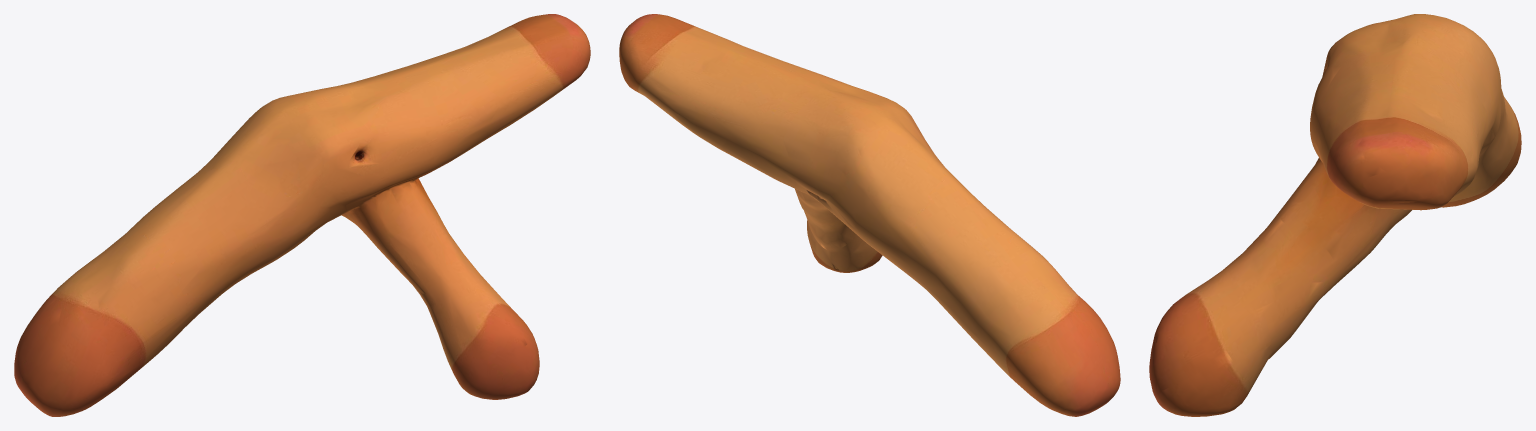
File: boomerang.glb
3 renders of one model, left to right at view 1: azimuth 30°, elevation 25°; view 2: azimuth 150°, elevation 25°; view 3: azimuth 270°, elevation 25°, orthographic. The views are drawn at different scales.
Visible parts, largest first — view 1: Mesh_0; view 2: Mesh_0; view 3: Mesh_0.
Part boxes in pixels (bbox=[...]): Mesh_0: bbox=[14, 14, 590, 416]; Mesh_0: bbox=[619, 14, 1120, 416]; Mesh_0: bbox=[1149, 14, 1521, 416].
Bounding box in the file's own units: 2 × 1.02 × 0.9521.
Materials: 1 (1 with a texture image).
